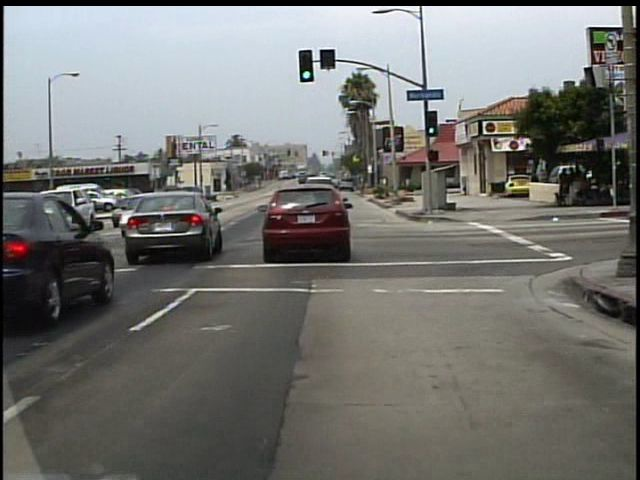person: (527, 165, 542, 202)
